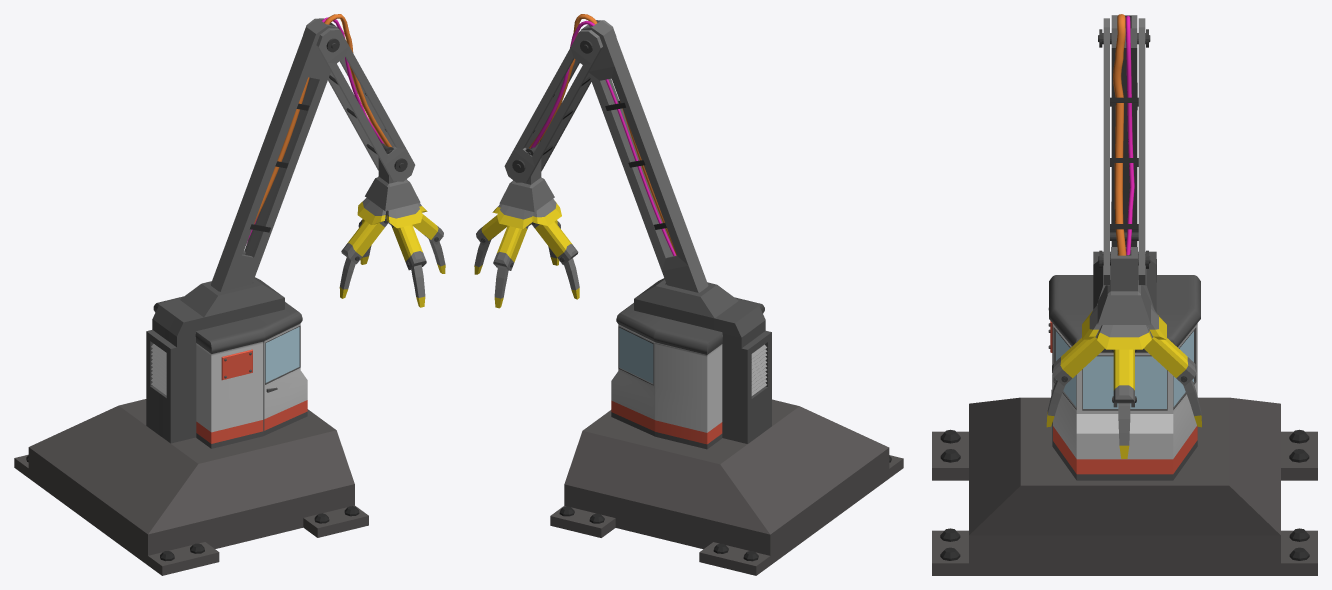
Rendered from clawMachine.fbx.
3 renders of one model, left to right at view 1: azimuth 30°, elevation 25°; view 2: azimuth 150°, elevation 25°; view 3: azimuth 270°, elevation 25°, orthographic. The views are drawn at different scales.
Visible parts, largest first — view 1: Claw Machine; view 2: Claw Machine; view 3: Claw Machine.
Boxes of the visible parts, box(x1,y1,x2,y2) form: Claw Machine: box(14, 14, 445, 575); Claw Machine: box(474, 14, 903, 575); Claw Machine: box(932, 14, 1317, 575).
Size of the model in its own units: 894 by 644 by 1078.
